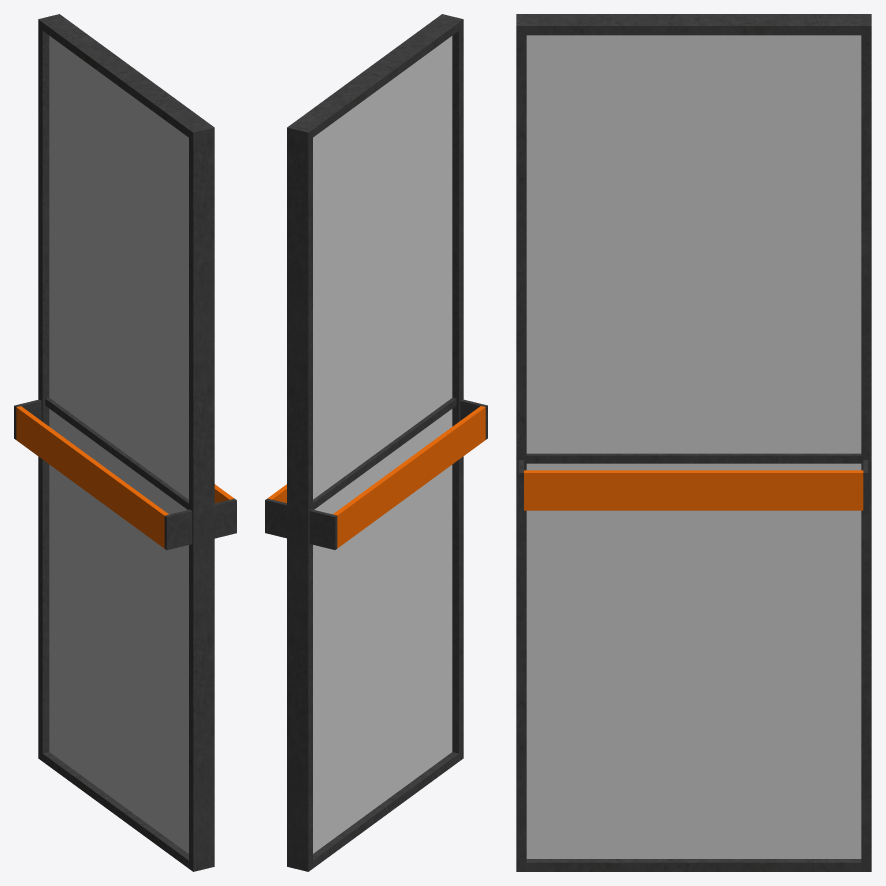
The model's file is left_door_pizzeria.glb.
The picture shows the model from 3 angles, left to right: view 1: azimuth 30°, elevation 25°; view 2: azimuth 150°, elevation 25°; view 3: azimuth 270°, elevation 25°; orthographic projection. The views are drawn at different scales.
Parts seen in each view (by area): view 1: Door_F; view 2: Door_F; view 3: Door_F.
Part boxes in pixels (x1,y1,x2,y2): Door_F: (14, 14, 236, 871); Door_F: (265, 14, 487, 871); Door_F: (516, 14, 871, 871).
Size of the model in its own units: 0.2556 by 2.57 by 0.9797.
3 materials, 1 textured.
